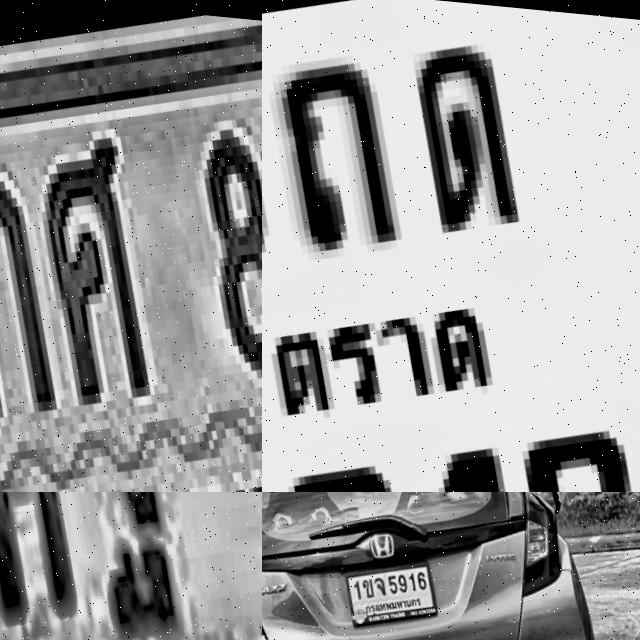license-plate: (262, 0, 640, 492), (0, 0, 262, 492), (0, 492, 262, 640), (342, 540, 448, 631)
